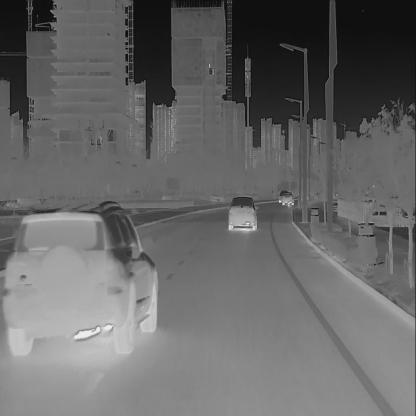car: (3, 197, 160, 355), (227, 194, 258, 231), (281, 191, 295, 206), (278, 189, 289, 203)
